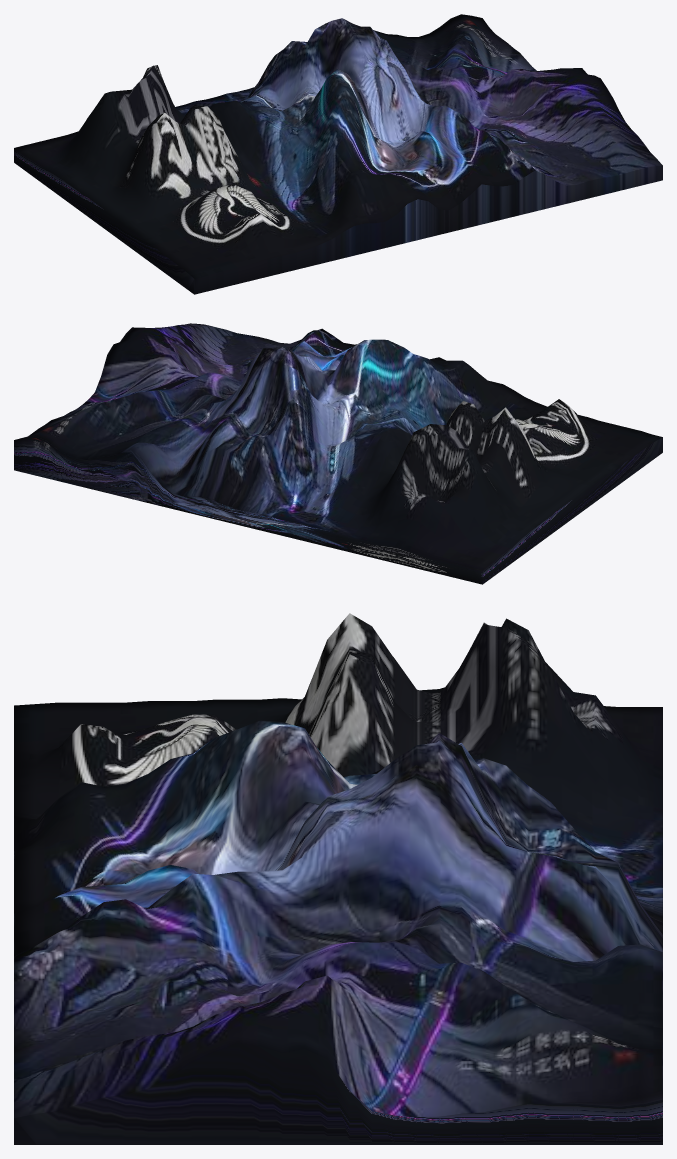
File: SECT_09_White_Crane.glb
3 renders of one model, top to bottom at view 1: azimuth 30°, elevation 25°; view 2: azimuth 150°, elevation 25°; view 3: azimuth 270°, elevation 25°, orthographic. The views are drawn at different scales.
Visible parts, largest first — view 1: SECT_09_White_Crane; view 2: SECT_09_White_Crane; view 3: SECT_09_White_Crane.
Boxes of the visible parts, x1,y1,x2,y2 form: SECT_09_White_Crane: [14, 14, 662, 294]; SECT_09_White_Crane: [14, 323, 662, 584]; SECT_09_White_Crane: [14, 613, 662, 1144].
Bounding box in the file's own units: 2 × 0.51 × 1.33.
1 material, 1 textured.
